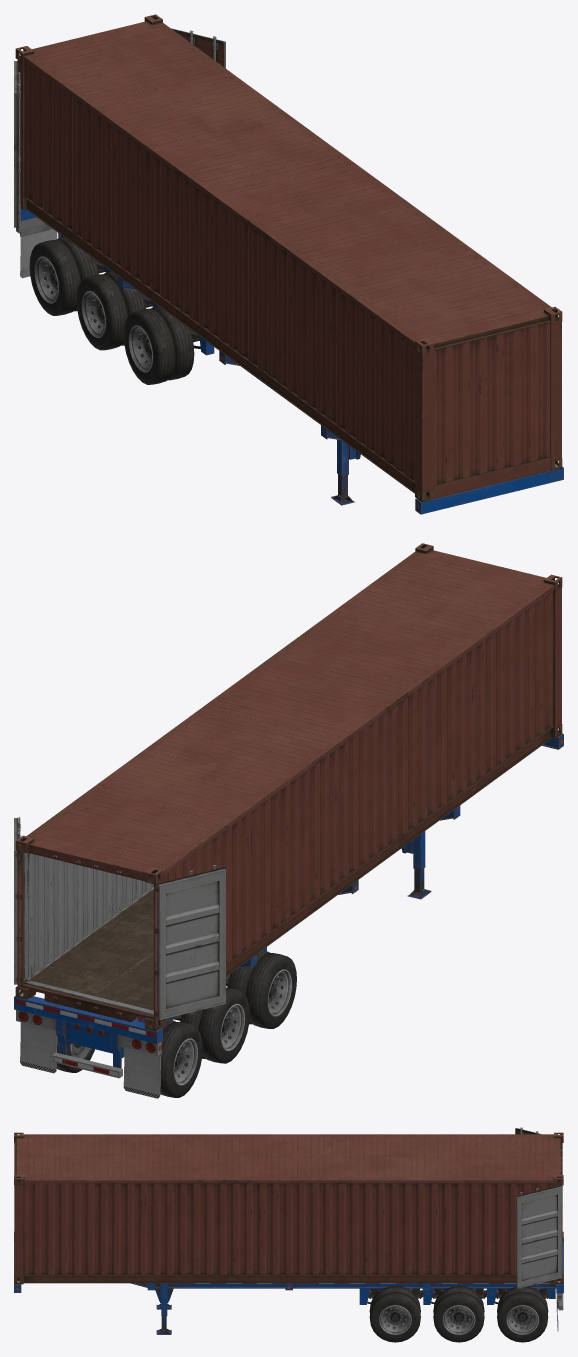
Rendered from trailer.glb.
3 renders of one model, top to bottom at view 1: azimuth 30°, elevation 25°; view 2: azimuth 150°, elevation 25°; view 3: azimuth 270°, elevation 25°, orthographic. The views are drawn at different scales.
Visible parts, largest first — view 1: Container, Chassis, Door_Right, Door_Left; view 2: Container, Chassis, Interior, Door_Right, Door_Left; view 3: Container, Chassis, Door_Left.
Boxes of the visible parts, x1,y1,x2,y2 form: Container: (15, 14, 562, 502); Chassis: (16, 209, 563, 514); Door_Right: (14, 60, 20, 228); Door_Left: (171, 28, 225, 68); Container: (15, 543, 562, 1030); Chassis: (14, 732, 563, 1098); Interior: (23, 852, 153, 1015); Door_Right: (154, 865, 225, 1019); Door_Left: (14, 817, 20, 984); Container: (14, 1132, 563, 1284); Chassis: (14, 1238, 563, 1342); Door_Left: (516, 1185, 562, 1289).
Bounding box in the file's own units: 3.68 × 4.04 × 12.22.
Materials: 3 (3 with a texture image).
